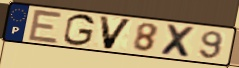8: (132, 22, 160, 53)
9: (197, 30, 228, 60)
E: (26, 7, 65, 45)
G: (62, 13, 97, 47)
V: (98, 14, 135, 51)
X: (159, 23, 198, 60)
